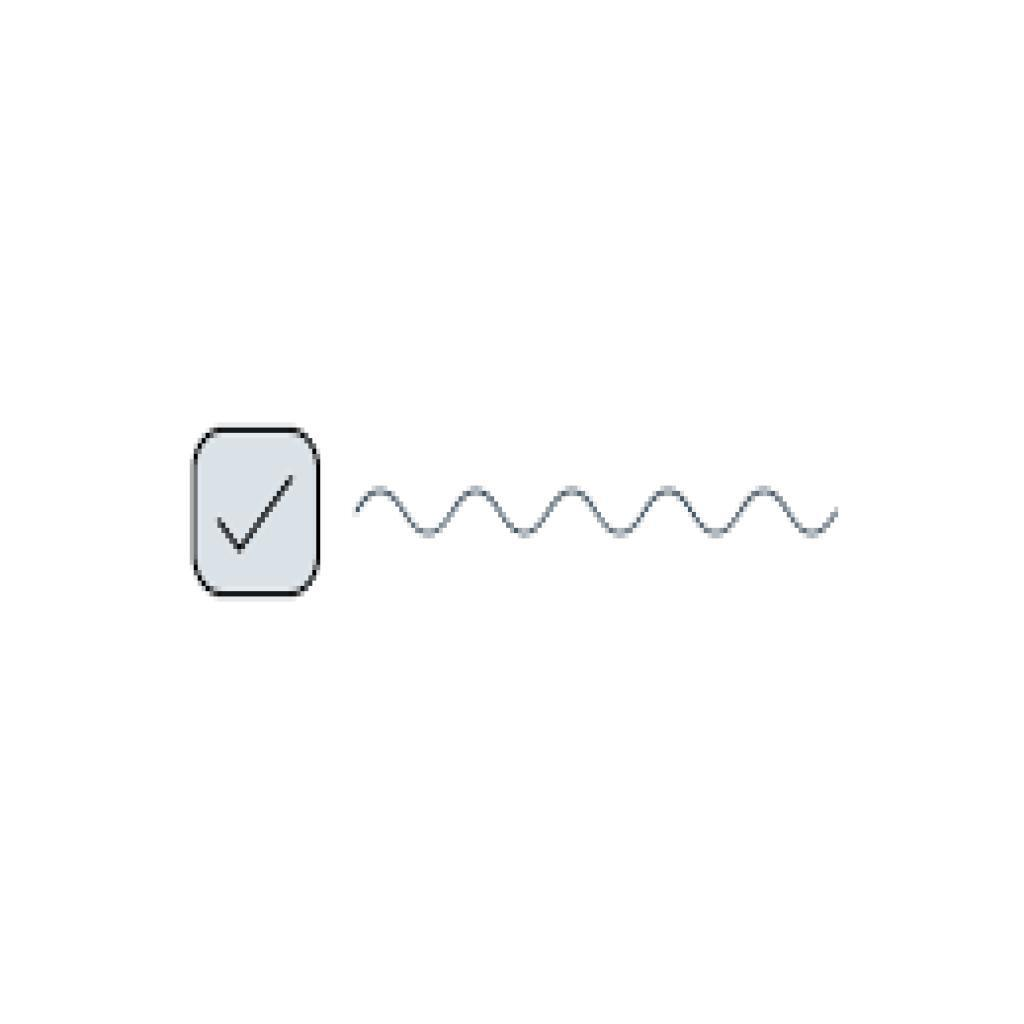checkbox: (191, 431, 323, 597)
